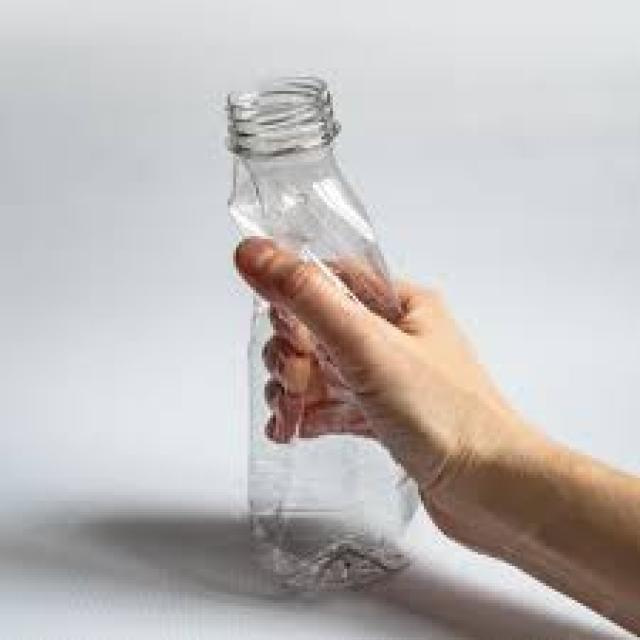defected: (191, 61, 442, 591)
